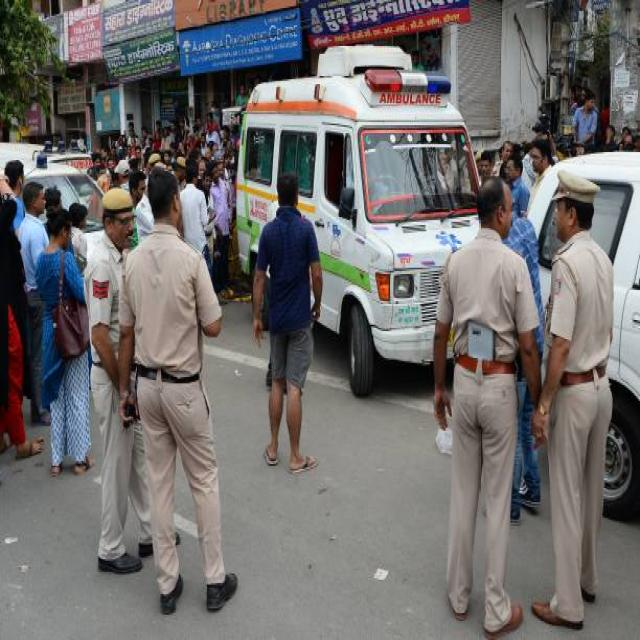ambulance: (233, 44, 500, 404)
